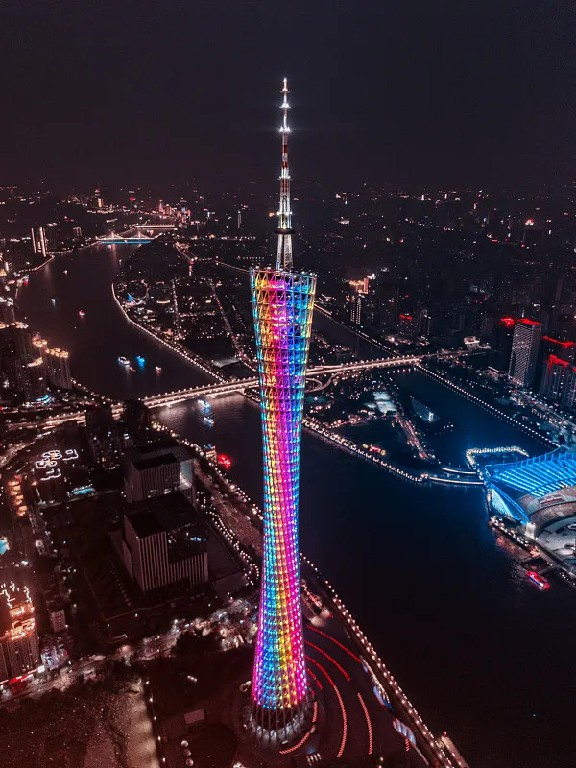Canton: (243, 81, 319, 738)
